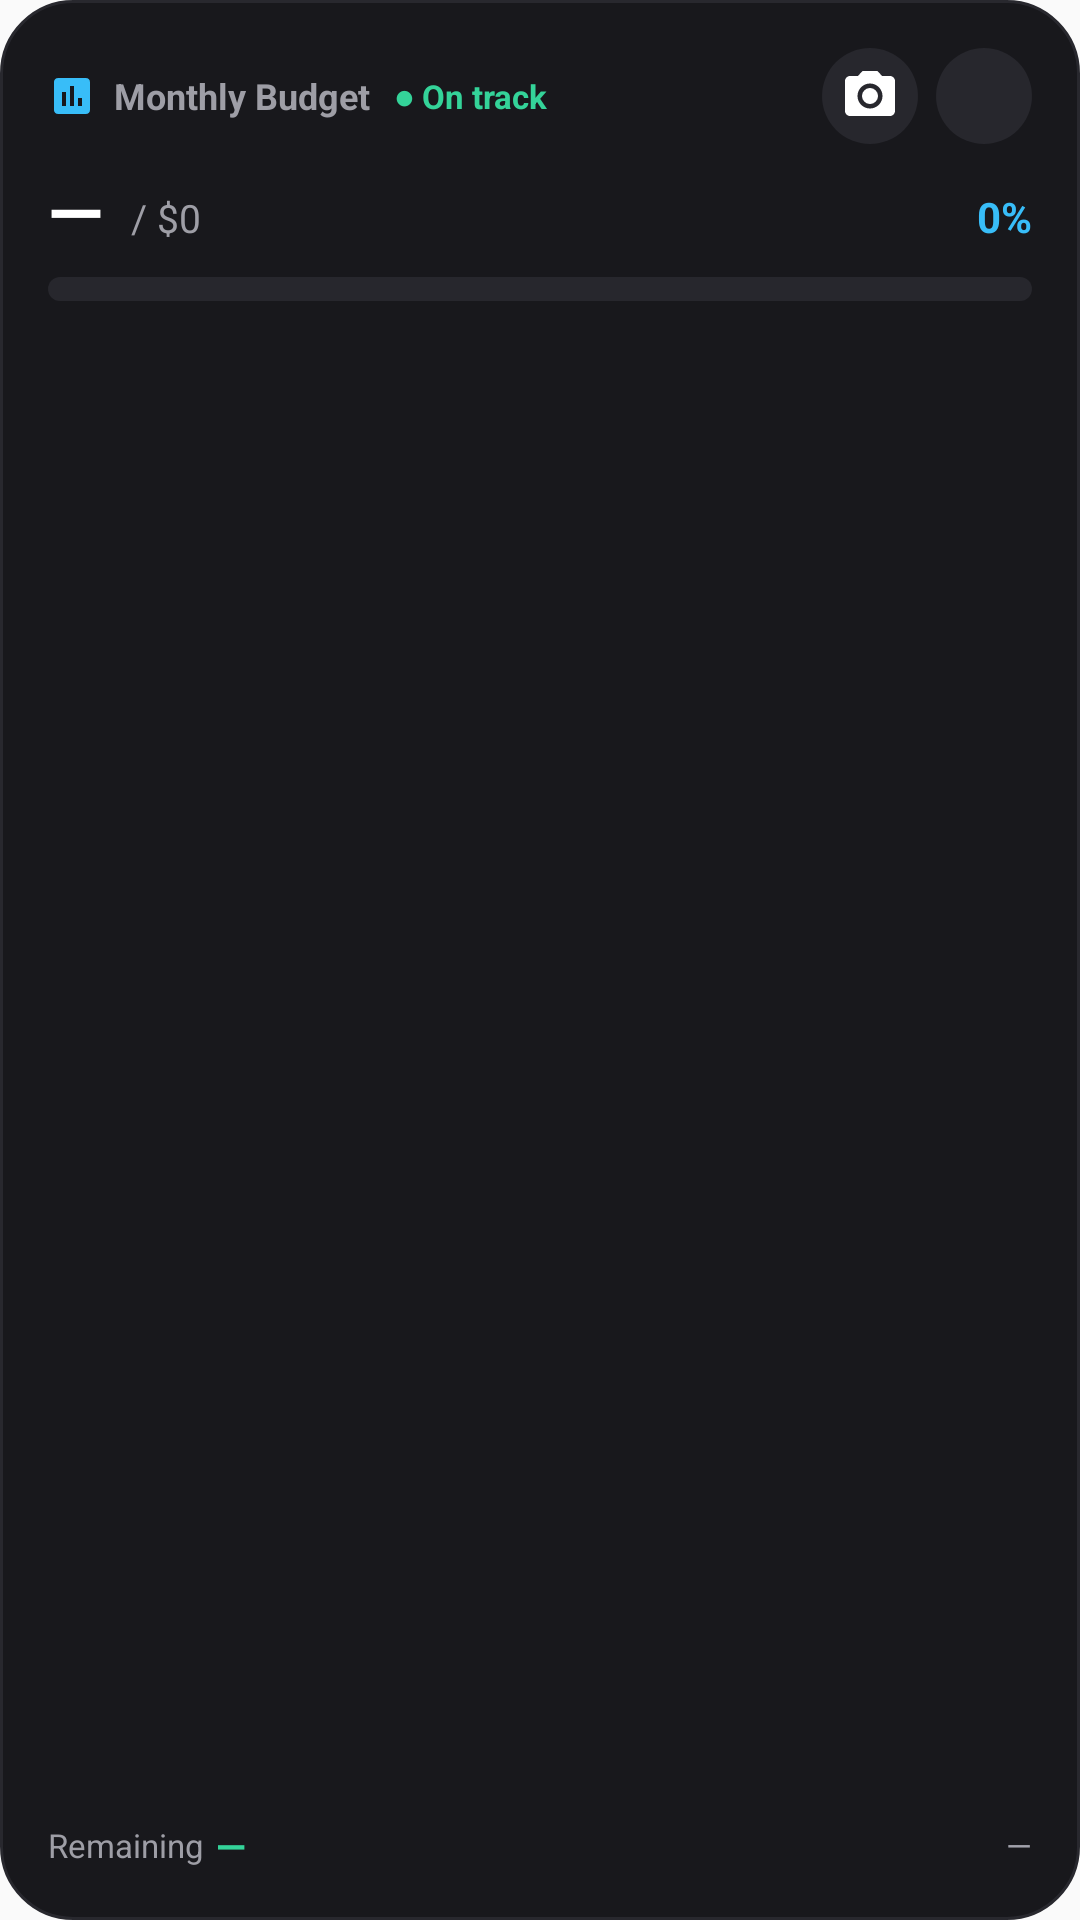

Locate icon controls on the screen. Image size 1080 x 1920, boxes as (x1=x1, y1=y1, x2=x2, y2=y2).
Scan receipt: (x1=845, y1=71, x2=895, y2=116)
widget budget: (x1=54, y1=78, x2=90, y2=114)
